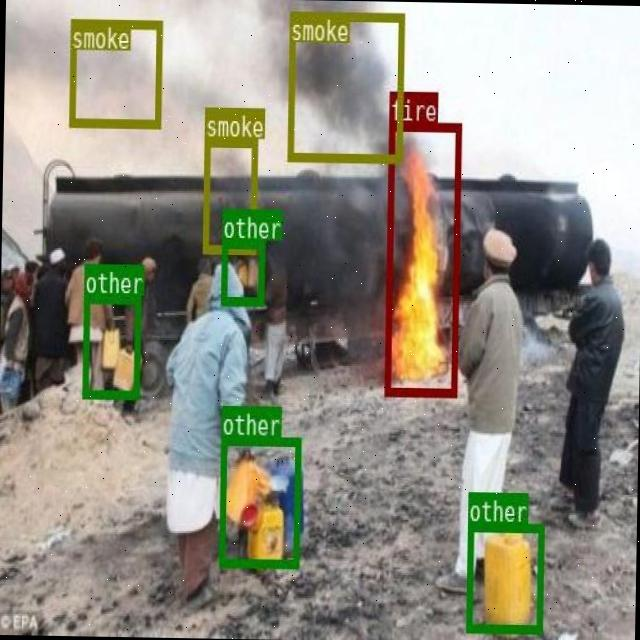fire: (384, 120, 459, 396)
smoke: (286, 11, 404, 160), (67, 18, 162, 126), (202, 136, 255, 252)
